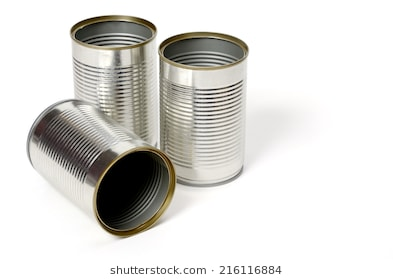Rec_Metal: (23, 93, 175, 238), (156, 32, 247, 187), (66, 7, 161, 147)
